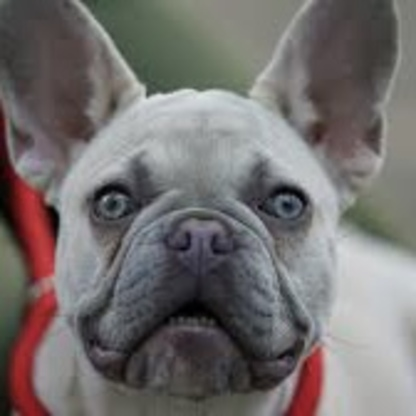bulldog: (7, 2, 409, 416)
